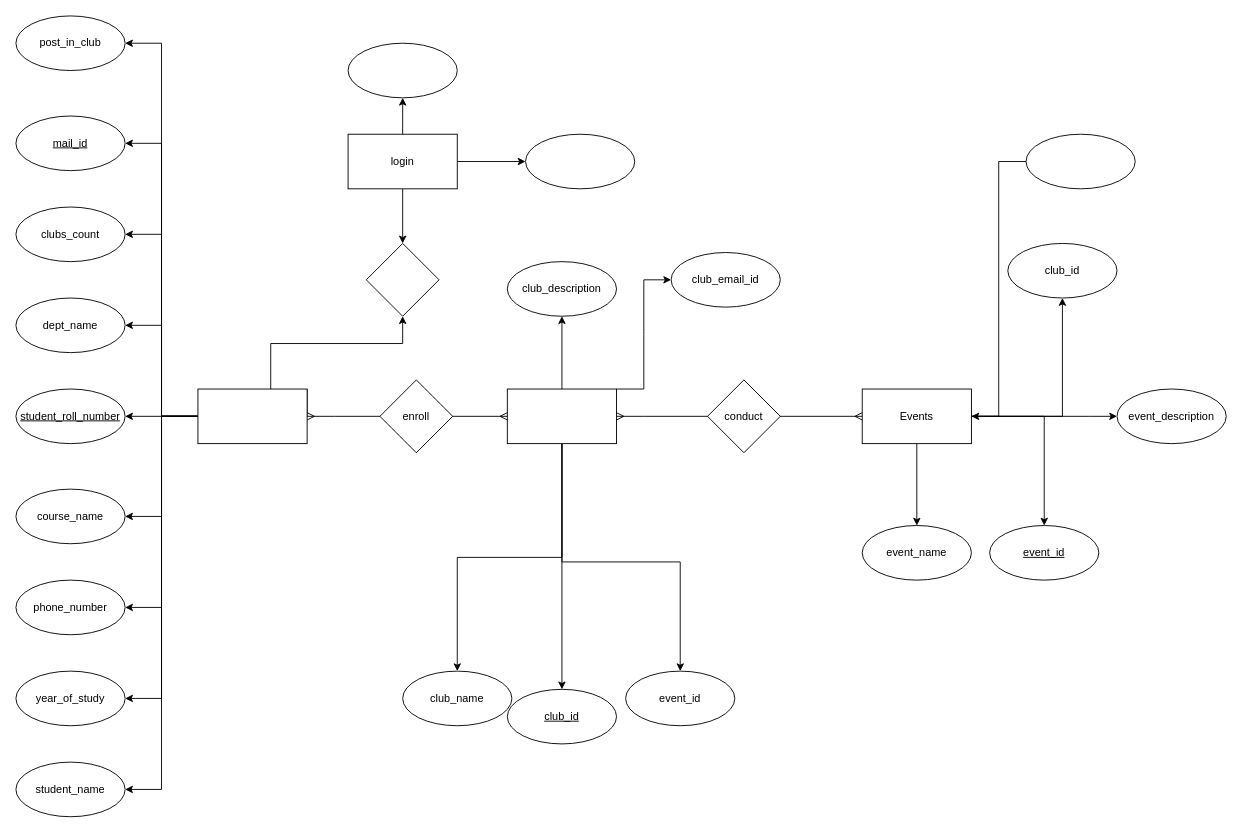
Some shapes in this 1242 by 833 pixel diagram are drawn without their labels. Each missing label, with the box of its shape:
clubs: (506, 388, 617, 444)
cms_user_ID: (347, 42, 457, 98)
event_organizers: (1025, 133, 1135, 189)
interacts: (365, 243, 439, 316)
password: (525, 133, 635, 189)
students: (197, 388, 307, 444)
